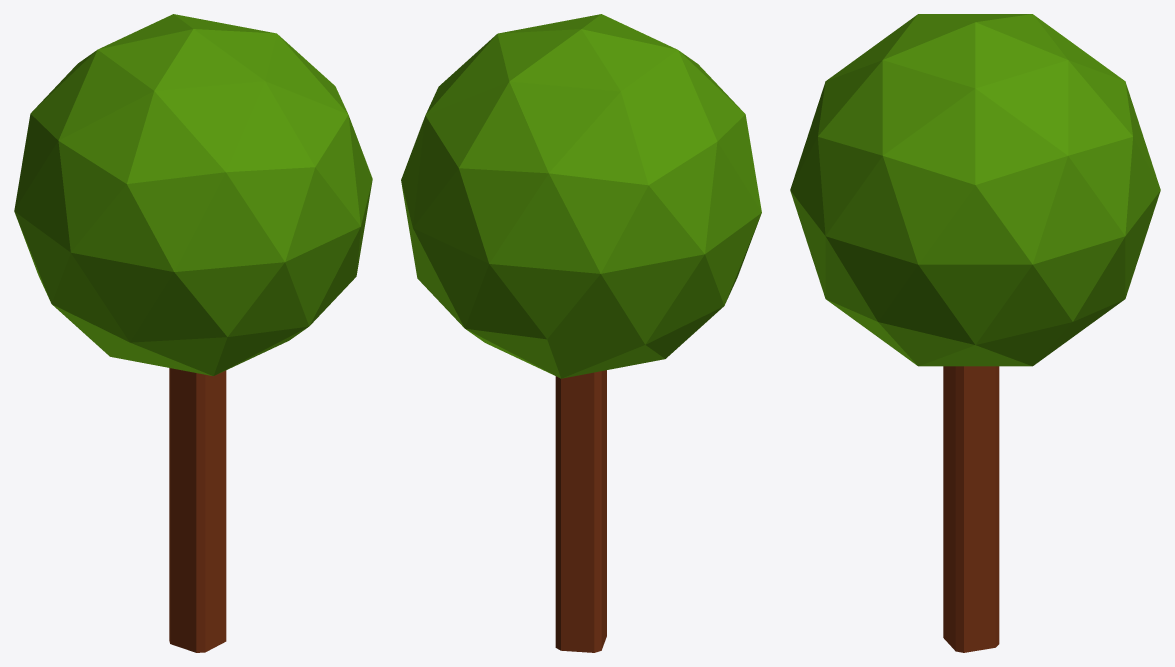
Rendered from tree.fbx.
3 renders of one model, left to right at view 1: azimuth 30°, elevation 25°; view 2: azimuth 150°, elevation 25°; view 3: azimuth 270°, elevation 25°, orthographic.
Visible parts, largest first — view 1: Icosphere, Cube; view 2: Icosphere, Cube; view 3: Icosphere, Cube.
Boxes of the visible parts, x1=… form: Icosphere: x1=14, y1=14, x2=372, y2=376; Cube: x1=169, y1=368, x2=226, y2=652; Icosphere: x1=401, y1=14, x2=761, y2=378; Cube: x1=555, y1=370, x2=606, y2=652; Icosphere: x1=790, y1=14, x2=1160, y2=366; Cube: x1=943, y1=366, x2=999, y2=652.
Bounding box in the file's own units: 1510 × 2920 × 1588.
